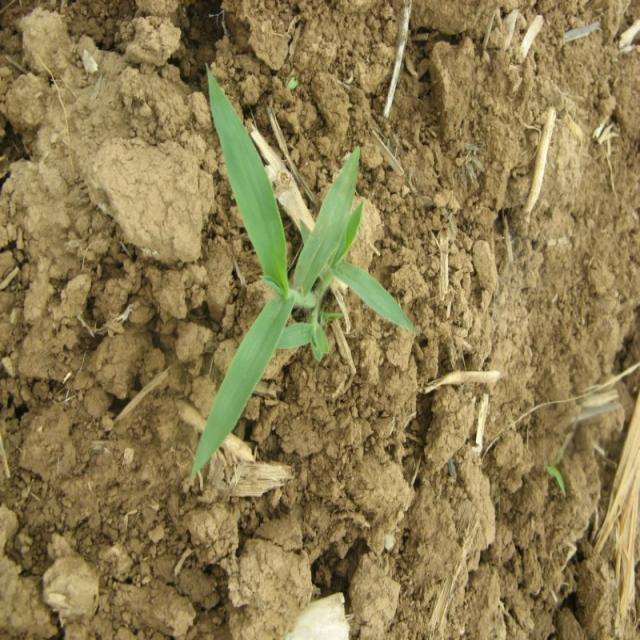bg: (190, 63, 418, 485)
